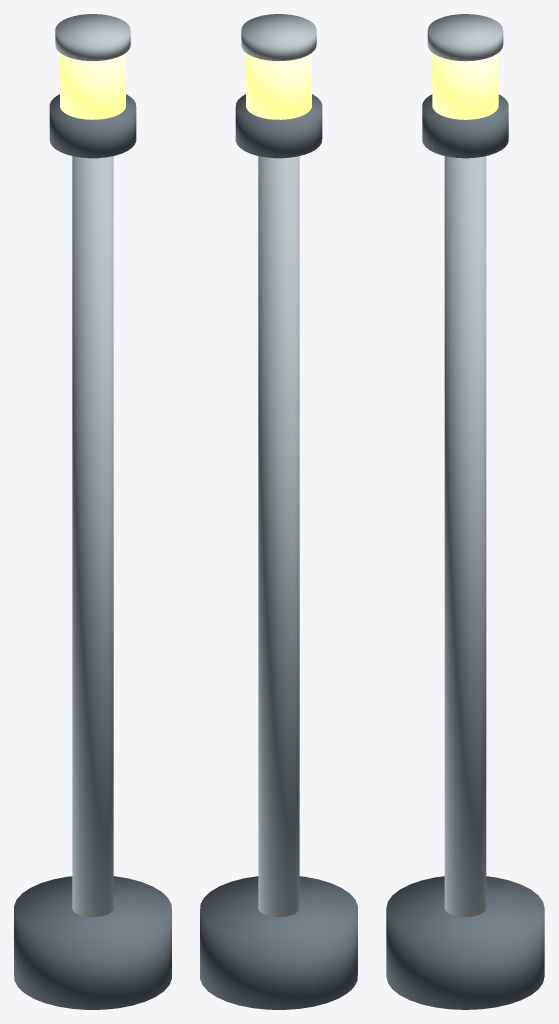
The model's file is signal_tower_ultra.glb.
The picture shows the model from 3 angles, left to right: view 1: azimuth 30°, elevation 25°; view 2: azimuth 150°, elevation 25°; view 3: azimuth 270°, elevation 25°; orthographic projection.
Visible parts, largest first — view 1: Pole_steel, Base_dark, StatusLight_warn, Beacon_dark, Beacon_steel; view 2: Pole_steel, Base_dark, StatusLight_warn, Beacon_dark, Beacon_steel; view 3: Pole_steel, Base_dark, StatusLight_warn, Beacon_dark, Beacon_steel.
Boxes of the visible parts, left/top/right/bottom form: Pole_steel: left=72, top=156, right=113, bottom=916; Base_dark: left=14, top=876, right=171, bottom=1009; StatusLight_warn: left=60, top=53, right=125, bottom=119; Beacon_dark: left=49, top=94, right=136, bottom=158; Beacon_steel: left=55, top=14, right=130, bottom=60; Pole_steel: left=258, top=156, right=299, bottom=916; Base_dark: left=200, top=876, right=357, bottom=1009; StatusLight_warn: left=246, top=53, right=311, bottom=119; Beacon_dark: left=235, top=94, right=322, bottom=158; Beacon_steel: left=241, top=14, right=316, bottom=60; Pole_steel: left=444, top=156, right=486, bottom=916; Base_dark: left=386, top=876, right=544, bottom=1009; StatusLight_warn: left=432, top=53, right=498, bottom=119; Beacon_dark: left=422, top=94, right=508, bottom=158; Beacon_steel: left=427, top=14, right=503, bottom=61.
Size of the model in its own units: 0.42 by 2.77 by 0.42.
